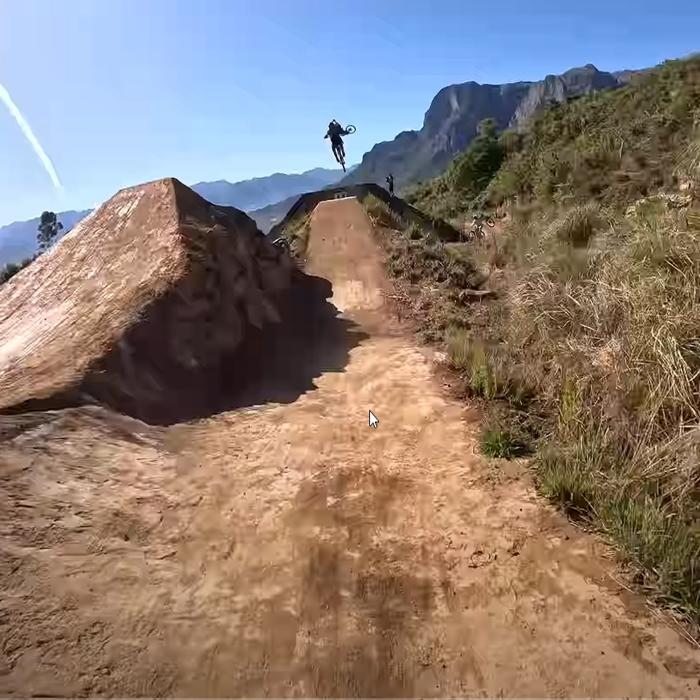turn: (60, 170, 209, 277), (282, 179, 403, 287)
